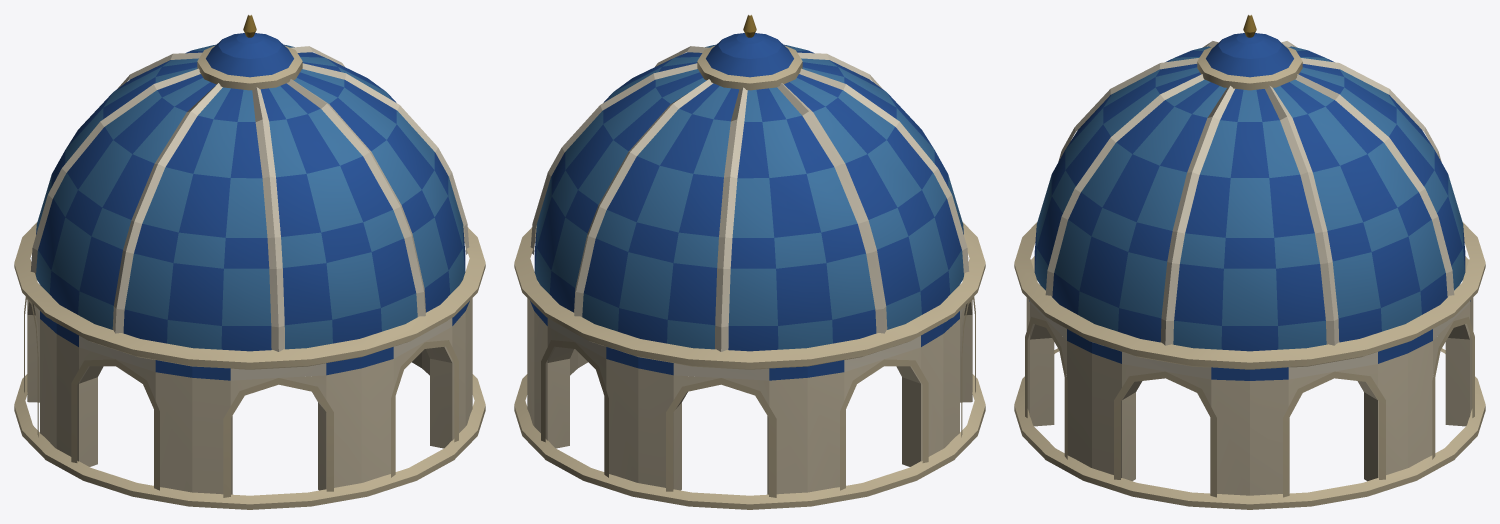
Rendered from dome.whole_8.blue.glb.
The picture shows the model from 3 angles, left to right: view 1: azimuth 30°, elevation 25°; view 2: azimuth 150°, elevation 25°; view 3: azimuth 270°, elevation 25°; orthographic projection.
Visible parts, largest first — view 1: dome_whole_8_blue; view 2: dome_whole_8_blue; view 3: dome_whole_8_blue.
Boxes of the visible parts, <box> form: dome_whole_8_blue: <box>14,15,485,509</box>; dome_whole_8_blue: <box>514,15,985,509</box>; dome_whole_8_blue: <box>1014,15,1485,509</box>.
Size of what is drawn, in the model's own units: 7.6 by 7.03 by 7.6.
